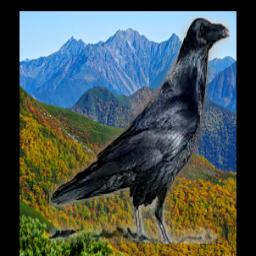Crow: (50, 16, 231, 245)
